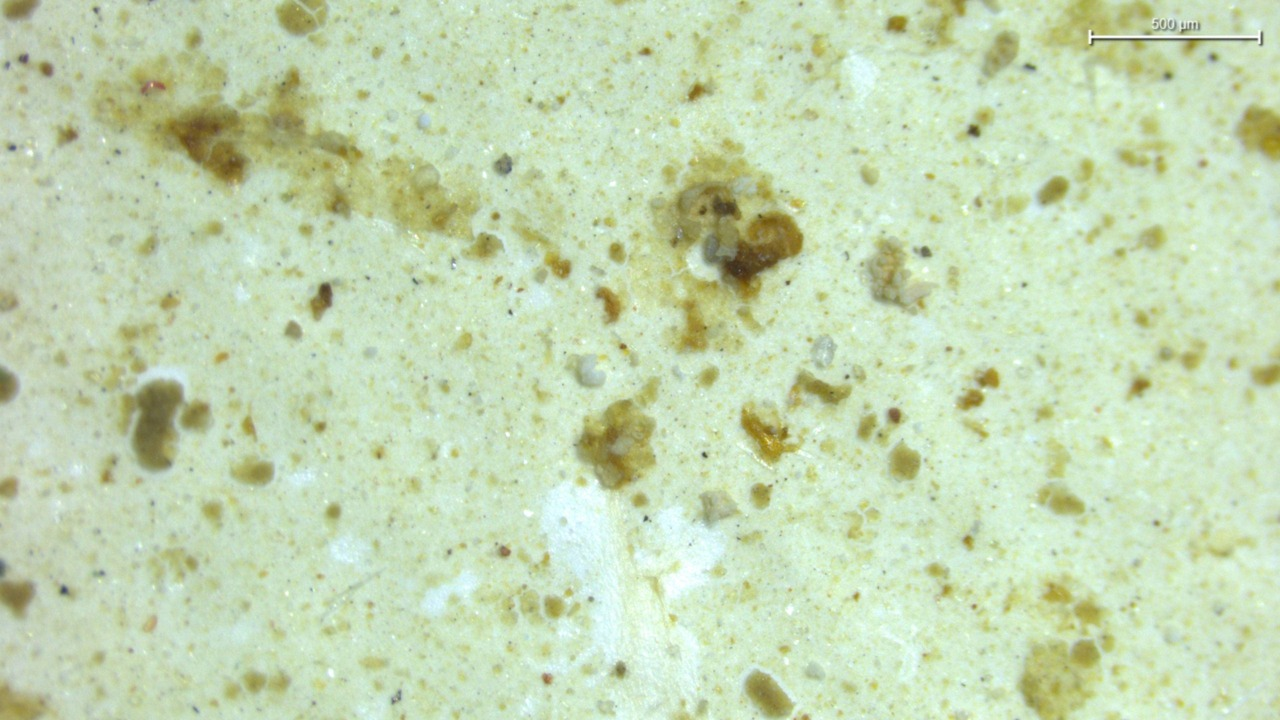microplastic_fragment: (700, 492, 738, 524), (577, 356, 606, 387), (810, 335, 836, 367)
